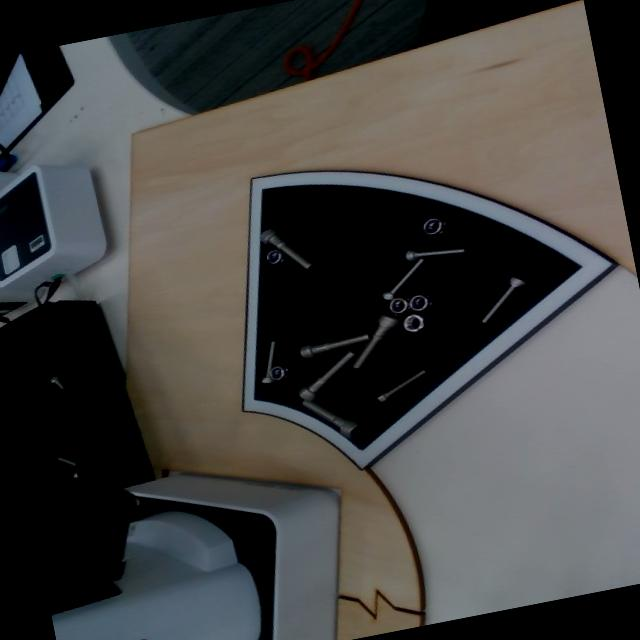big: (296, 338, 355, 408), (345, 306, 399, 373), (298, 393, 369, 441), (257, 224, 317, 277), (296, 327, 370, 360)
circle: (418, 211, 450, 237), (400, 310, 431, 335), (385, 294, 412, 316), (264, 245, 288, 267), (269, 362, 291, 384), (409, 292, 433, 312)
small: (470, 268, 528, 329), (372, 358, 431, 405), (379, 251, 429, 304), (404, 238, 470, 267), (256, 339, 287, 383)
